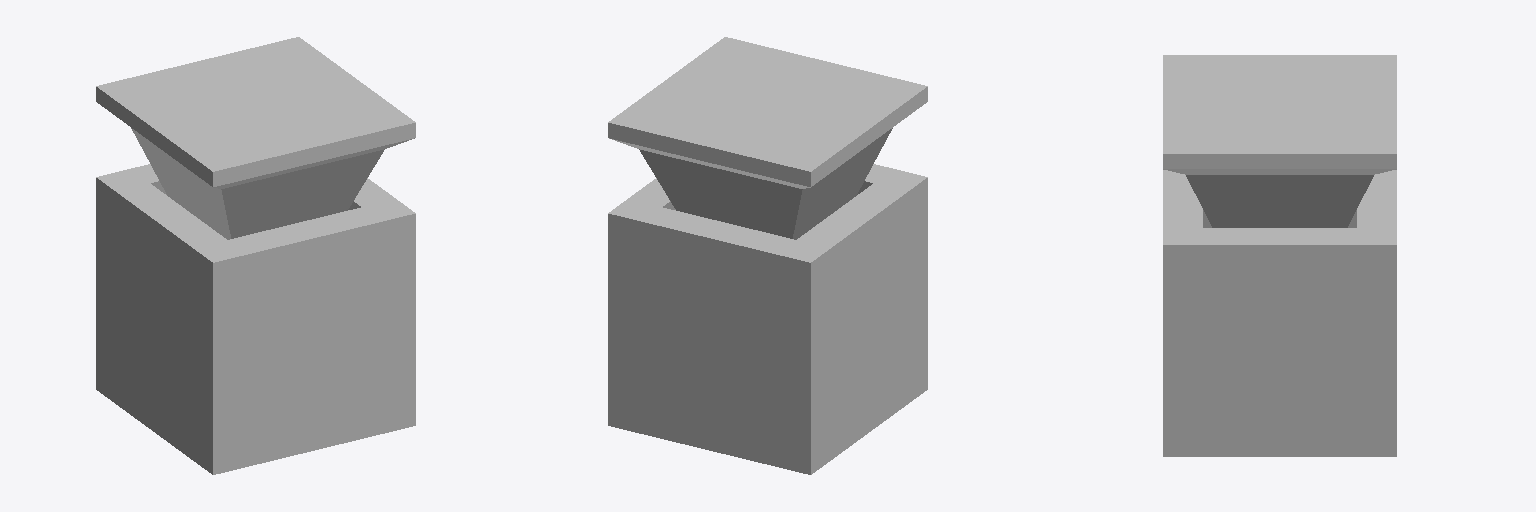
File: AnimatedBox_000175.obj
3 renders of one model, left to right at view 1: azimuth 30°, elevation 25°; view 2: azimuth 150°, elevation 25°; view 3: azimuth 270°, elevation 25°, orthographic.
Visible parts, largest first — view 1: Cube, Cube.001; view 2: Cube, Cube.001; view 3: Cube, Cube.001.
Part boxes in pixels (x1,y1,x2,y2): Cube: (96,164,415,474); Cube.001: (96,37,415,239); Cube: (608,164,927,474); Cube.001: (608,37,927,239); Cube: (1163,170,1396,456); Cube.001: (1163,55,1396,227).
Size of the model in its own units: 2 by 2.86 by 2.